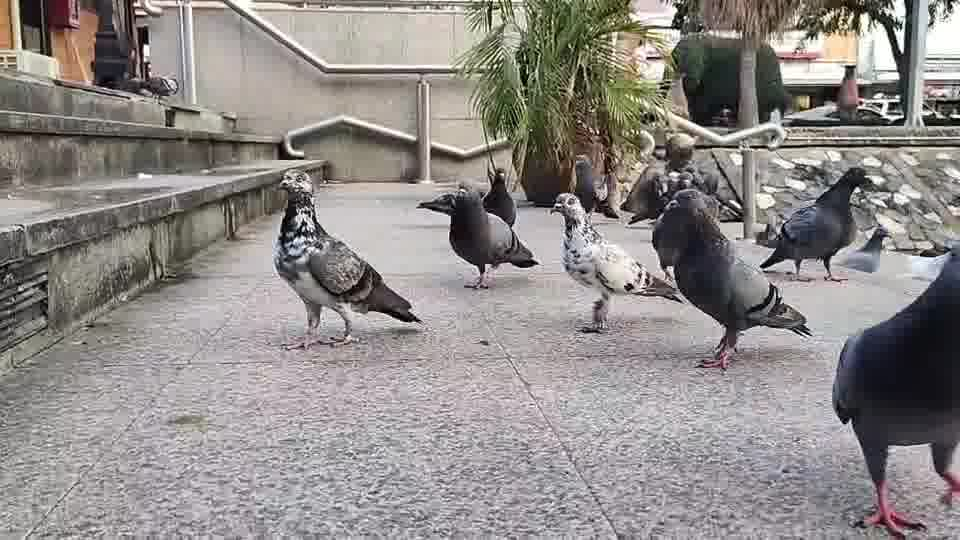Pigeon: (830, 243, 959, 538), (650, 188, 812, 372), (271, 168, 424, 351), (548, 191, 684, 333), (757, 165, 873, 282), (415, 187, 540, 289), (838, 224, 892, 273), (480, 166, 517, 229), (571, 153, 595, 215)
